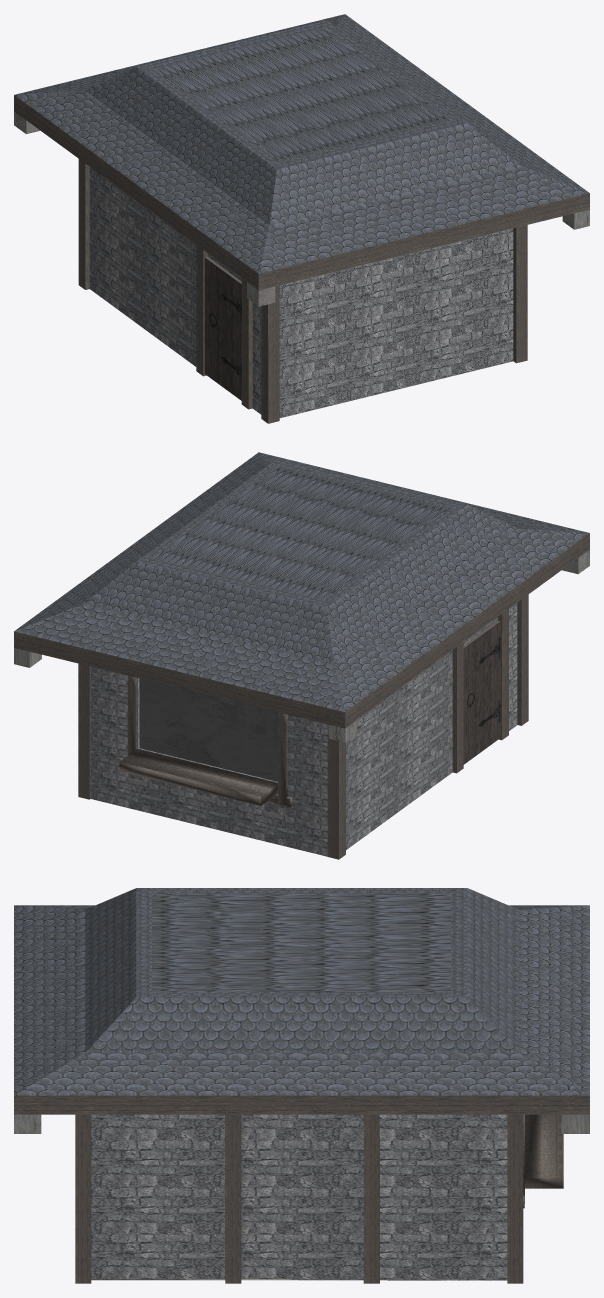
File: EXT GUARD HAWS.fbx
The picture shows the model from 3 angles, top to bottom: view 1: azimuth 30°, elevation 25°; view 2: azimuth 150°, elevation 25°; view 3: azimuth 270°, elevation 25°; orthographic projection. The views are drawn at different scales.
Parts seen in each view (by area): view 1: gUARDHOUSE; view 2: gUARDHOUSE; view 3: gUARDHOUSE.
Part boxes in pixels (x1=…): gUARDHOUSE: x1=14, y1=14, x2=589, y2=423; gUARDHOUSE: x1=14, y1=452, x2=589, y2=859; gUARDHOUSE: x1=14, y1=888, x2=589, y2=1283.
Size of the model in its own units: 2117 by 1387 by 2710.
1 material, 1 textured.
